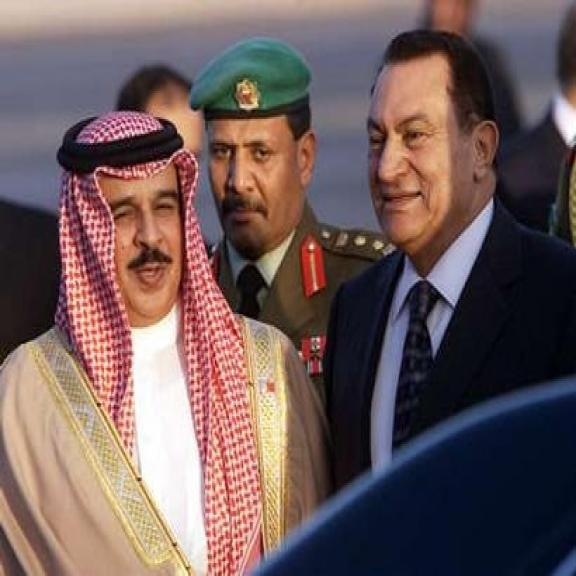face: (369, 64, 499, 258), (105, 169, 196, 326), (211, 119, 315, 253)
